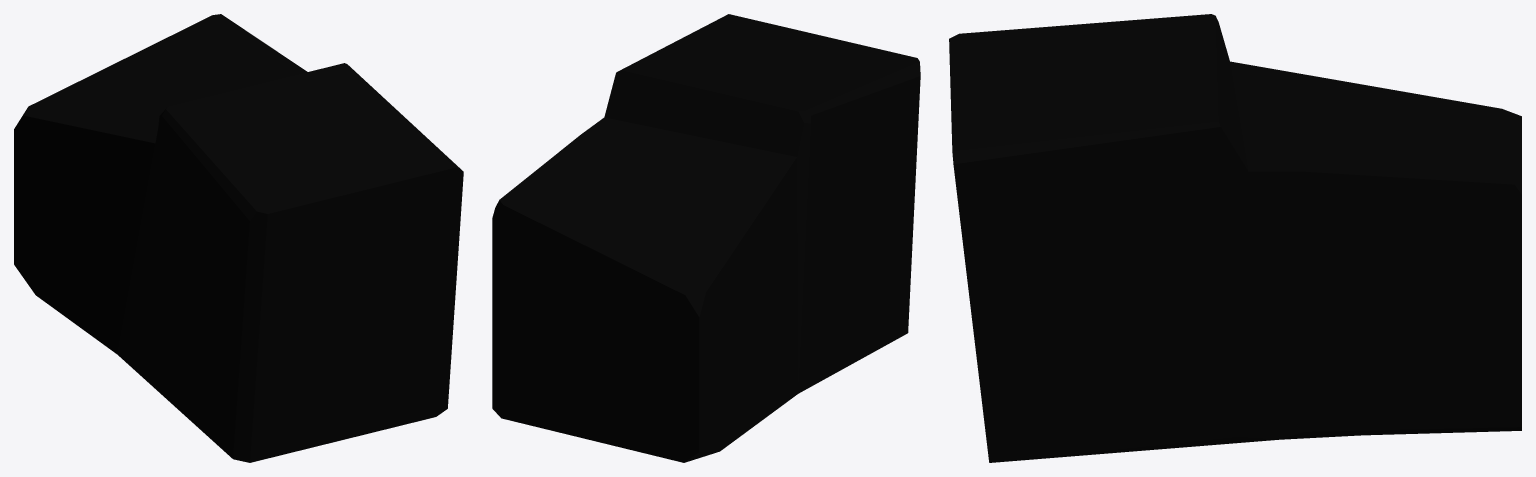
The model's file is rock2.fbx.
The picture shows the model from 3 angles, left to right: view 1: azimuth 30°, elevation 25°; view 2: azimuth 150°, elevation 25°; view 3: azimuth 270°, elevation 25°; orthographic projection. The views are drawn at different scales.
Visible parts, largest first — view 1: rock2; view 2: rock2; view 3: rock2.
Boxes of the visible parts, x1,y1,x2,y2 form: rock2: (14,14,463,462); rock2: (492,14,920,462); rock2: (949,14,1521,462).
Size of the model in its own units: 102 by 129 by 195.
Materials: 1 (1 with a texture image).
